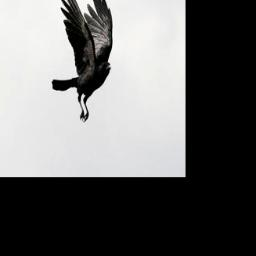Crow: (51, 0, 114, 125)
